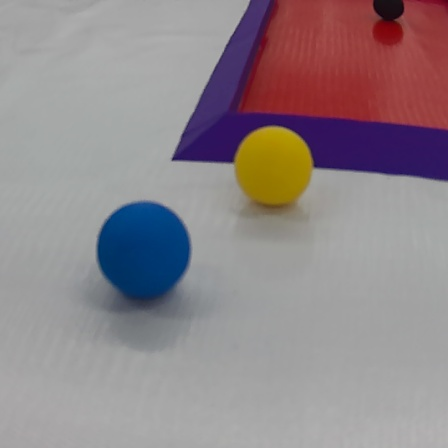black: (354, 0, 417, 25)
blue: (92, 198, 198, 300)
red_aim: (165, 0, 446, 191)
yellow: (220, 126, 317, 210)
